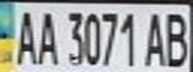0: (81, 7, 103, 66)
1: (118, 8, 142, 68)
3: (60, 7, 84, 66)
7: (100, 8, 121, 68)
A: (142, 8, 172, 68), (9, 6, 39, 66), (33, 7, 60, 66)
B: (160, 7, 193, 68)
